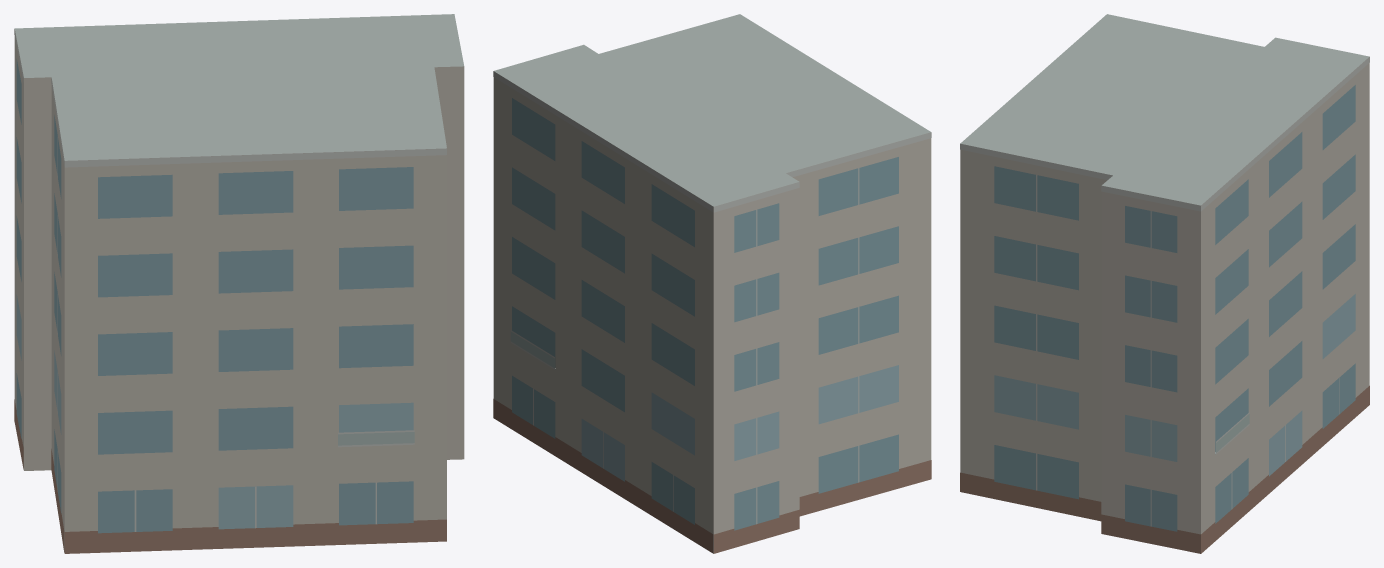
Rendered from survey-upis-32947208.glb.
The picture shows the model from 3 angles, left to right: view 1: azimuth 30°, elevation 25°; view 2: azimuth 150°, elevation 25°; view 3: azimuth 270°, elevation 25°; orthographic projection. The views are drawn at different scales.
Parts seen in each view (by area): view 1: survey-upis-32947208.tmp; view 2: survey-upis-32947208.tmp; view 3: survey-upis-32947208.tmp.
Part boxes in pixels (left/top/right/bottom): survey-upis-32947208.tmp: left=14, top=14, right=464, bottom=553; survey-upis-32947208.tmp: left=493, top=14, right=931, bottom=553; survey-upis-32947208.tmp: left=960, top=14, right=1369, bottom=553.
Size of the model in its own units: 16.88 by 14.3 by 15.25.
